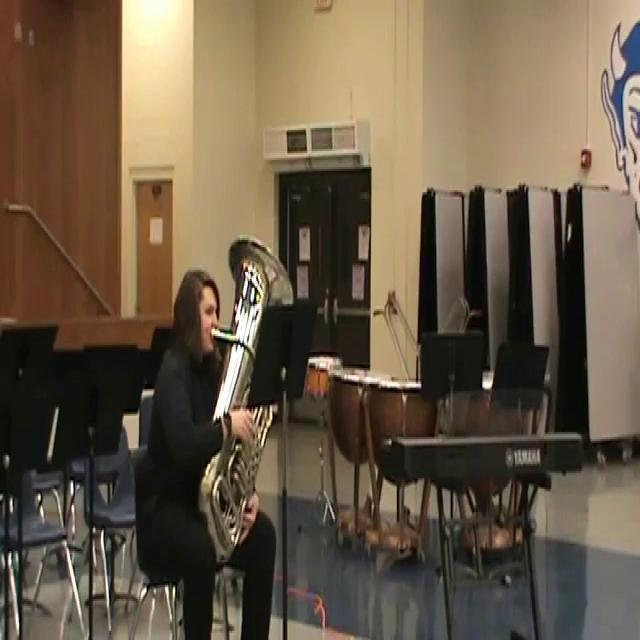Tuba: (189, 227, 302, 569)
